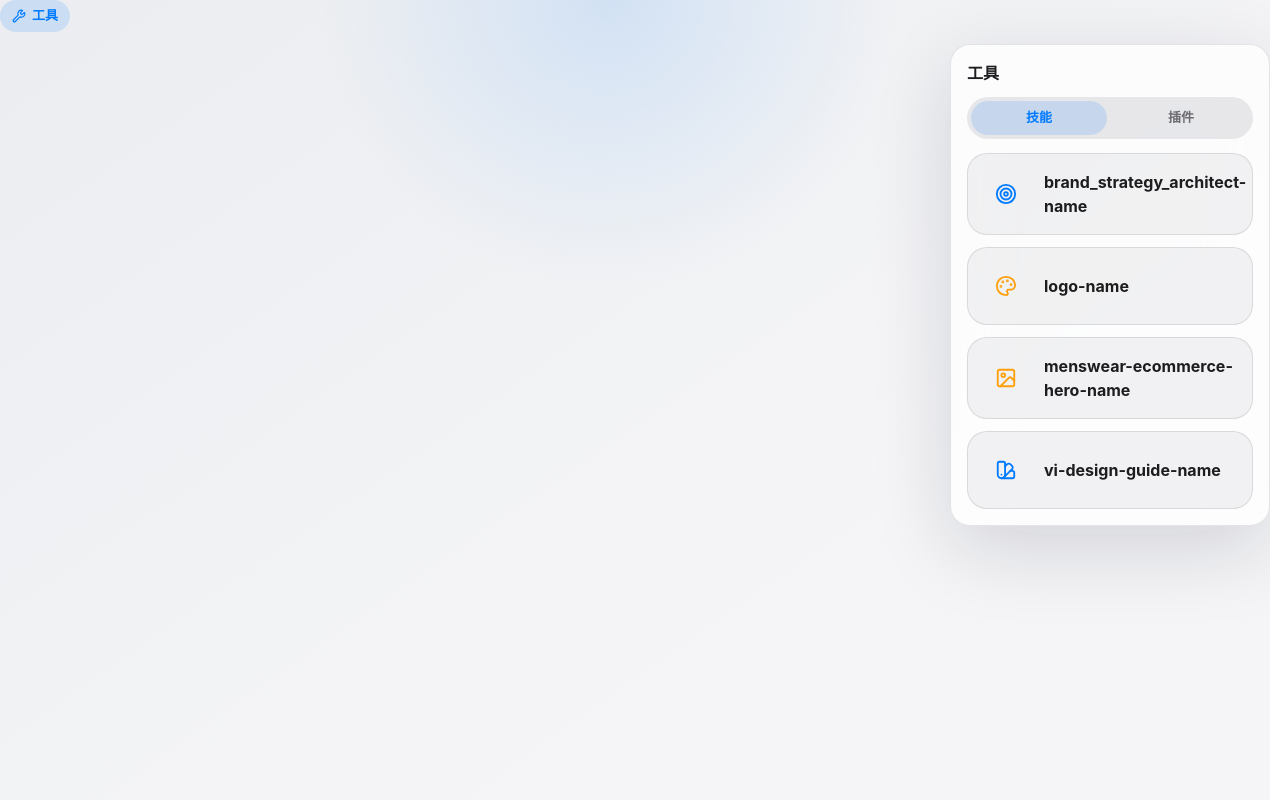
SkillLibraryButton › opens the prompt extractor modal from the plugins tab
Click the tab "插件" at (1181,118), box [1113, 101, 1249, 135]
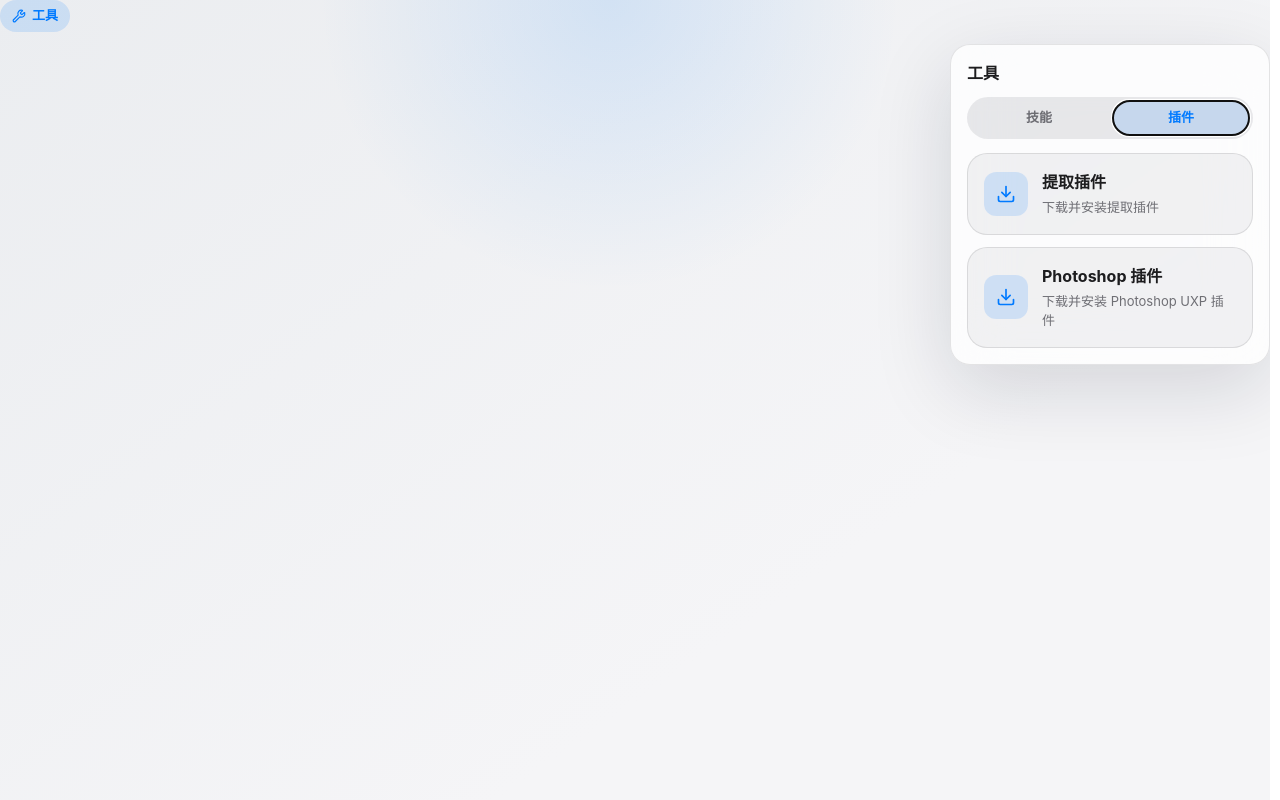
Click the button with aria-label "打开提取插件说明" at (1006,194), box [967, 153, 1253, 234]
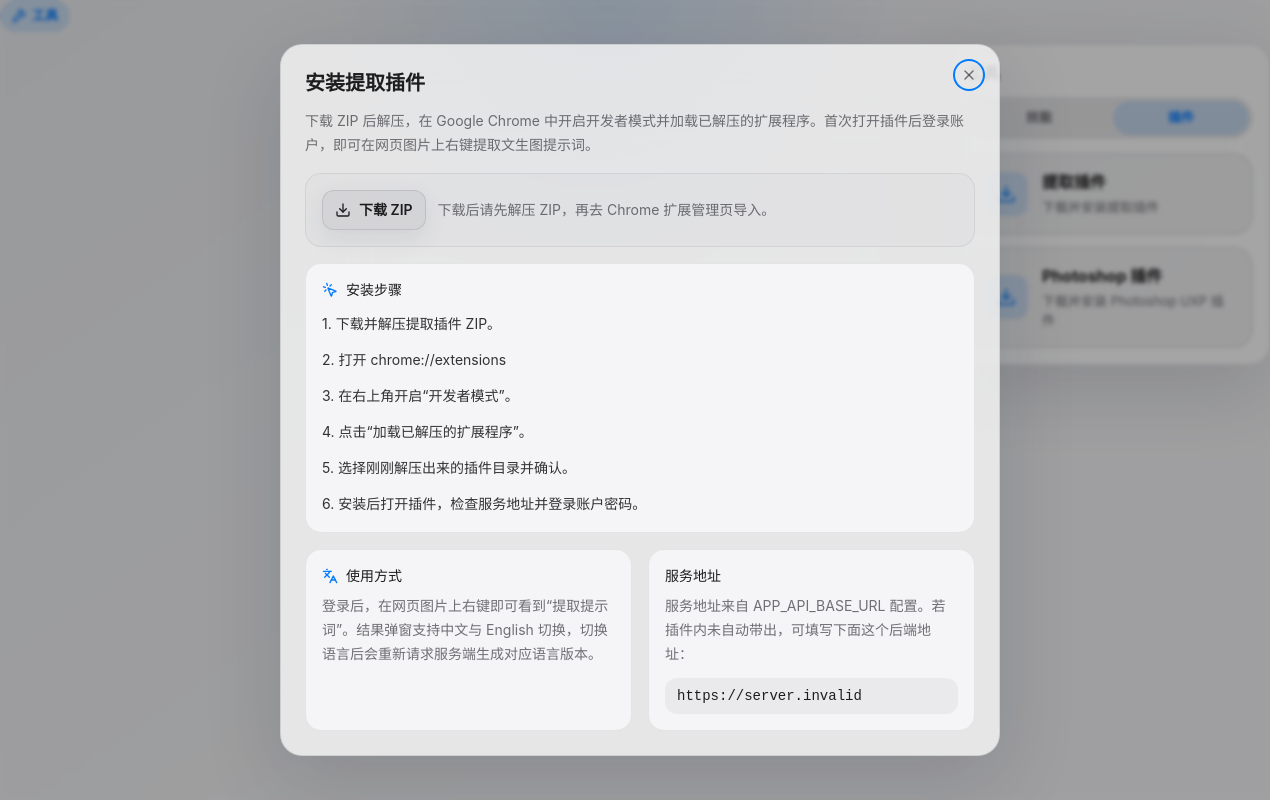
Expected: the heading "安装提取插件" is shown, [305, 71, 425, 95]
